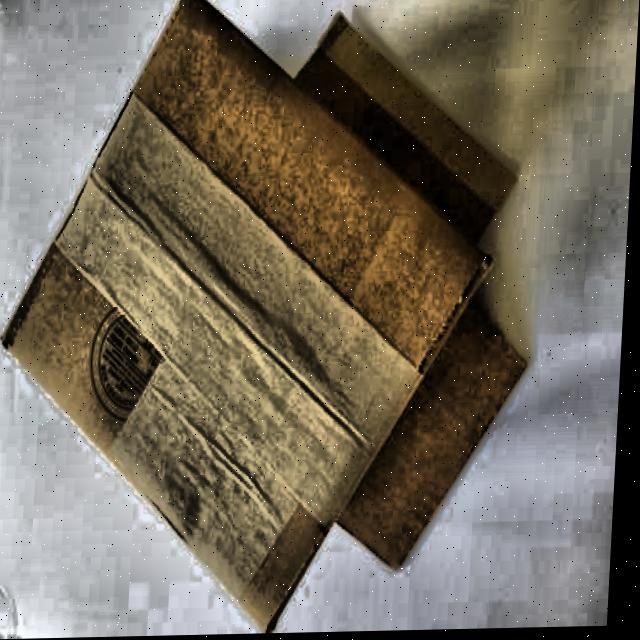cardboard: (0, 0, 535, 640)
